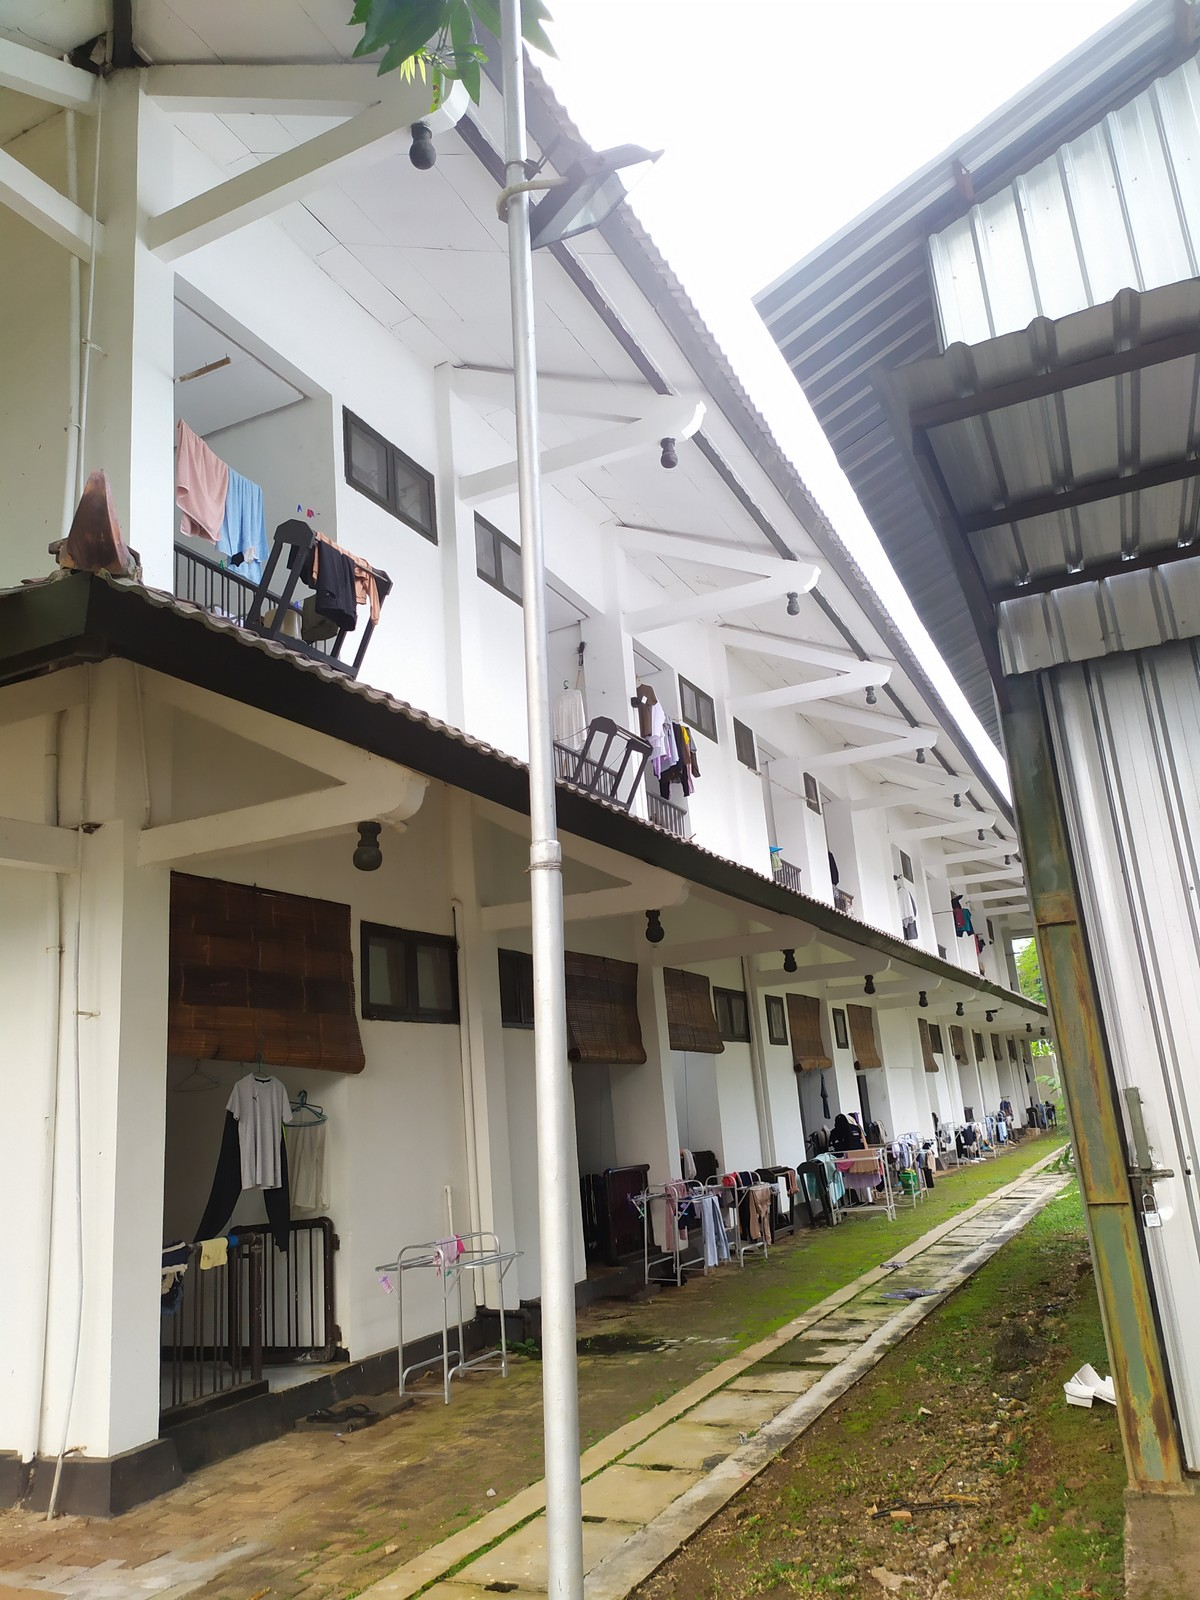concrete beam: (146, 139, 363, 262), (456, 427, 637, 510)
concrete column: (39, 706, 180, 1474), (55, 58, 192, 603), (439, 789, 527, 1343), (608, 912, 696, 1257), (577, 503, 663, 824), (420, 355, 487, 731)
